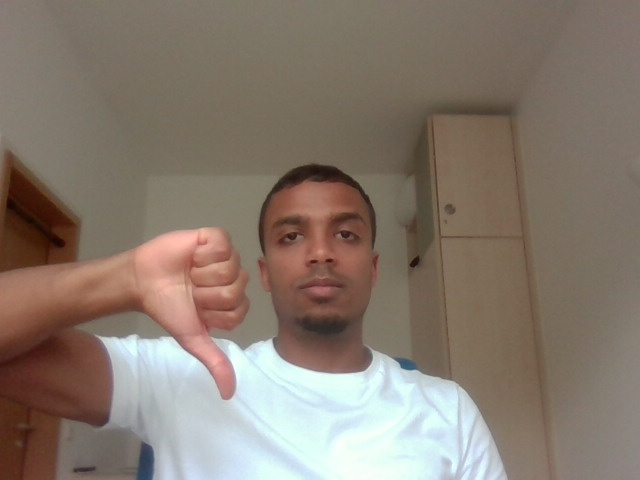no: (128, 201, 252, 413)
